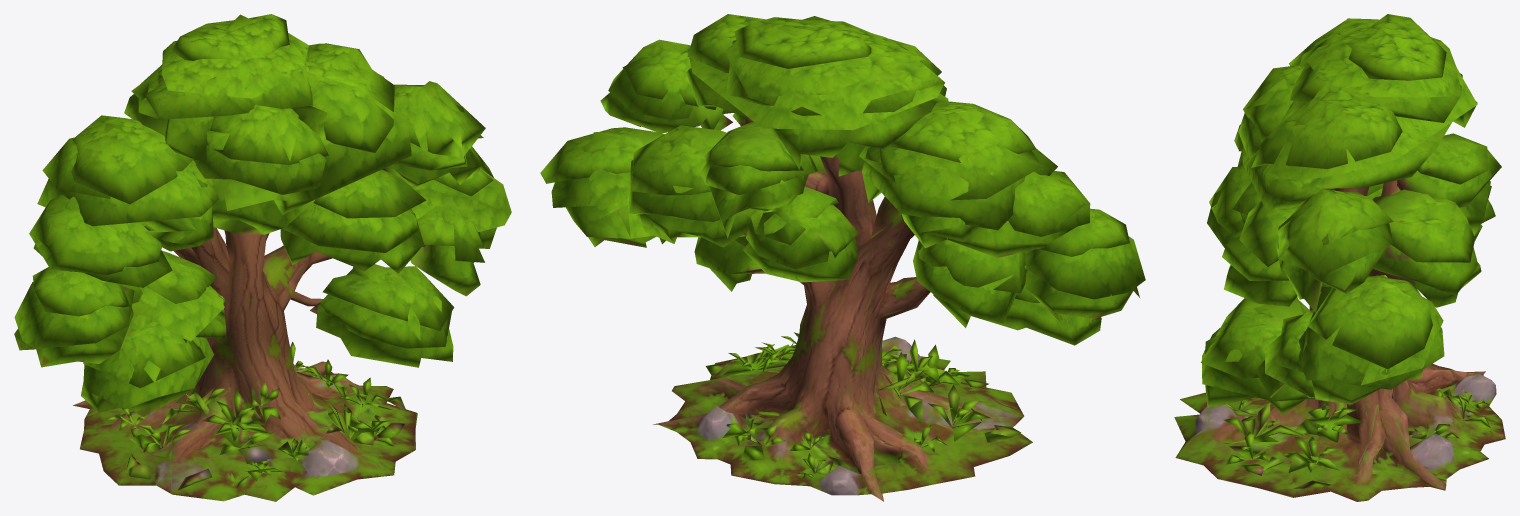
Rendered from Meshy_AI_Verdant_Guardian_1005034111_texture.glb.
3 views of the same model, side by side, from view 1: azimuth 30°, elevation 25°; view 2: azimuth 150°, elevation 25°; view 3: azimuth 270°, elevation 25° (orthographic). The views are drawn at different scales.
Bounding box in the file's own units: 0.9604 × 0.6968 × 0.5259.
1 material, 1 textured.
